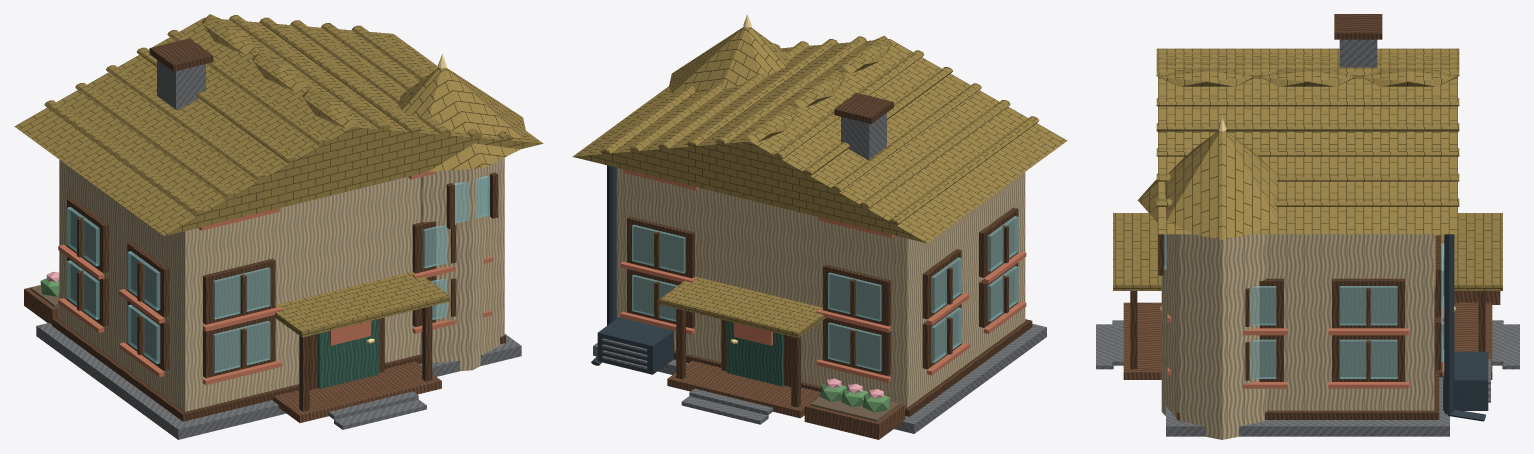
File: house_cottage_lv4_tower.glb
3 views of the same model, side by side, from view 1: azimuth 30°, elevation 25°; view 2: azimuth 150°, elevation 25°; view 3: azimuth 270°, elevation 25° (orthographic). The views are drawn at different scales.
Visible parts, largest first — view 1: gable_roof, walls, tower, tower_roof, foundation, front_porch_canopy, front_deck, front_window_frame.002, front_window_frame, floor_trim, front_door, front_window_glass (+36 smaller); view 2: gable_roof, walls, back_porch_canopy, tower_roof, back_deck, foundation, back_ac_unit, back_window_frame.002, back_window_frame.003, back_window_frame, back_door, back_garden_bed (+40 smaller); view 3: gable_roof, walls, tower, tower_roof, foundation, back_porch_canopy, front_porch_canopy, right_window_frame.003, right_window_frame.001, thatch_course.005, thatch_course.006, front_deck (+33 smaller).
Boxes of the visible parts, x1,y1,x2,y2 form: gable_roof: (14, 17, 543, 236); walls: (59, 160, 420, 411); tower: (420, 158, 504, 370); tower_roof: (397, 67, 525, 171); foundation: (36, 323, 521, 439); front_porch_canopy: (272, 271, 450, 337); front_deck: (272, 361, 441, 422); front_window_frame.002: (203, 258, 275, 324); front_window_frame: (203, 315, 275, 378); floor_trim: (52, 317, 505, 421); front_door: (317, 319, 378, 388); front_window_glass: (213, 321, 270, 372); gable_roof: (572, 39, 1067, 243); walls: (616, 168, 1025, 407); back_porch_canopy: (659, 276, 825, 337); tower_roof: (669, 26, 789, 93); back_deck: (667, 360, 820, 418); foundation: (593, 323, 1046, 433); back_ac_unit: (597, 317, 673, 374); back_window_frame.002: (823, 264, 890, 326); back_window_frame.003: (627, 216, 694, 278); back_window_frame: (823, 317, 890, 376); back_door: (726, 321, 783, 386); back_garden_bed: (804, 395, 905, 439); gable_roof: (1158, 75, 1457, 234); walls: (1267, 234, 1434, 410); tower: (1161, 234, 1266, 439); tower_roof: (1137, 130, 1279, 239); foundation: (1166, 377, 1449, 436); back_porch_canopy: (1434, 213, 1502, 290); front_porch_canopy: (1113, 213, 1161, 290); right_window_frame.003: (1332, 278, 1404, 328); right_window_frame.001: (1332, 335, 1404, 381); thatch_course.005: (1156, 98, 1459, 106); thatch_course.006: (1156, 123, 1459, 131); front_deck: (1123, 302, 1161, 379).
Size of the model in its own units: 6.6 by 4.75 by 6.19.
Materials: 13 (7 with a texture image).
